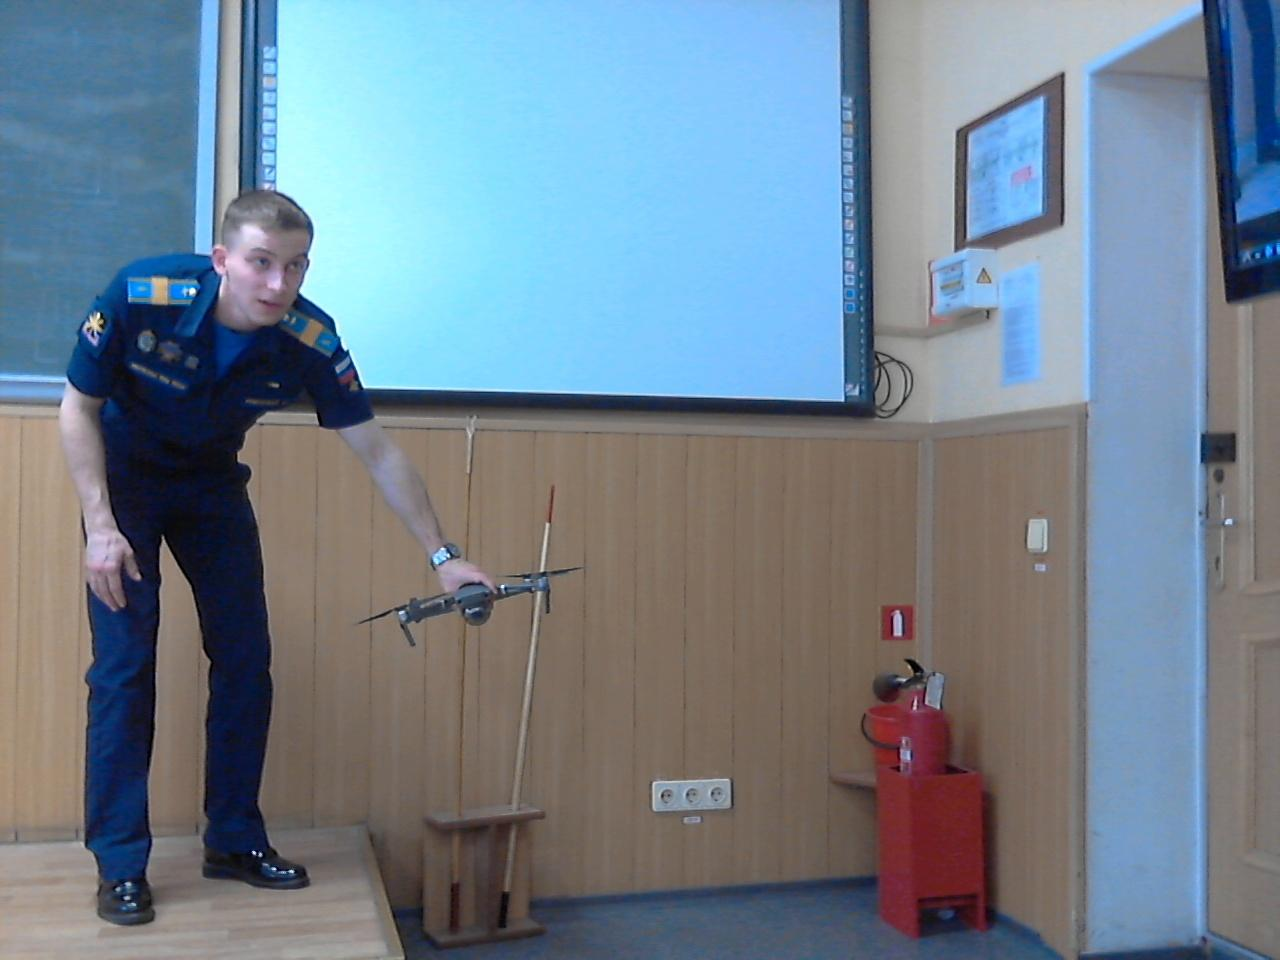drone: (360, 554, 603, 648)
